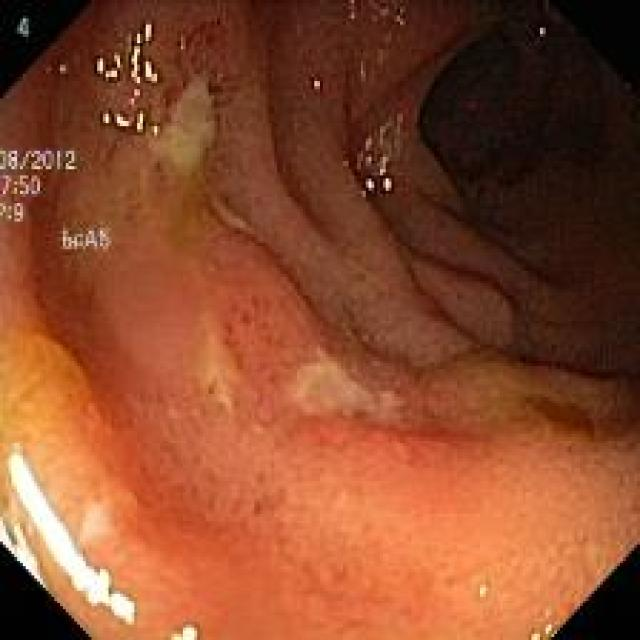ulcerative-colitis-grade-3: (0, 3, 640, 639)
